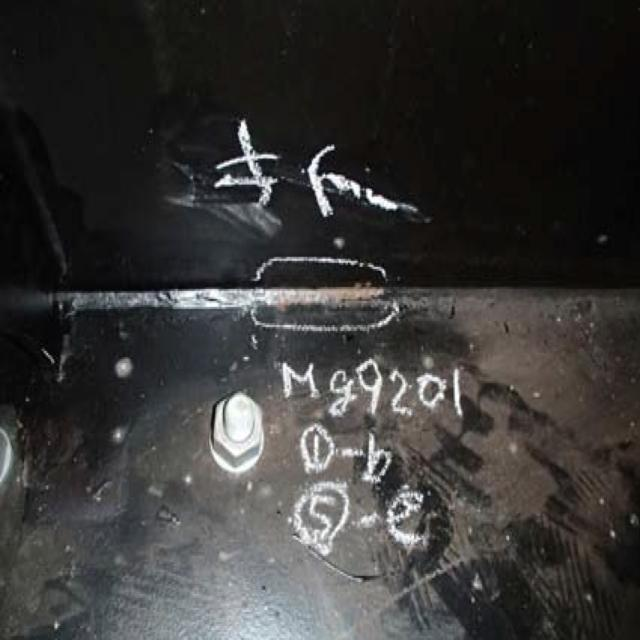corrosion: (231, 256, 420, 320)
